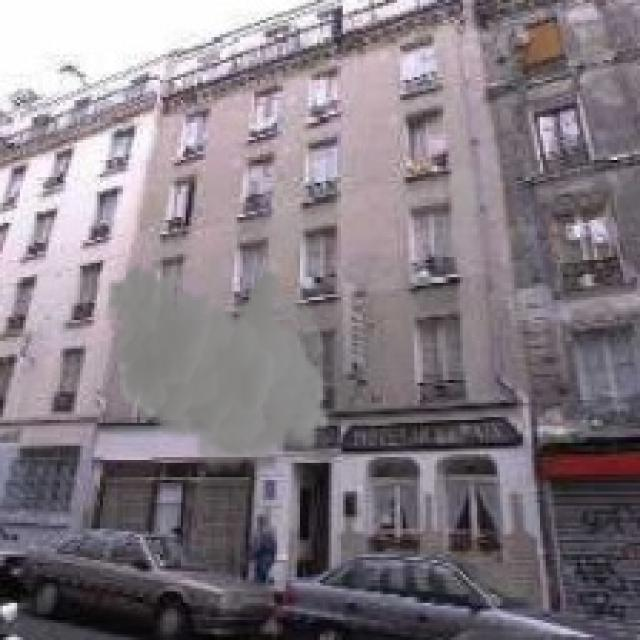Smoke: (106, 257, 332, 483)
